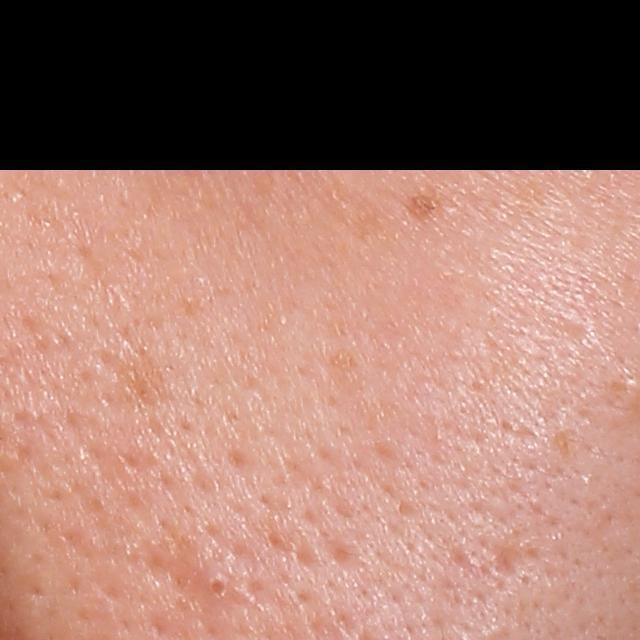atrophic_scar: (486, 541, 526, 579)
comedo: (202, 574, 227, 602)
melasma: (397, 183, 444, 226)
